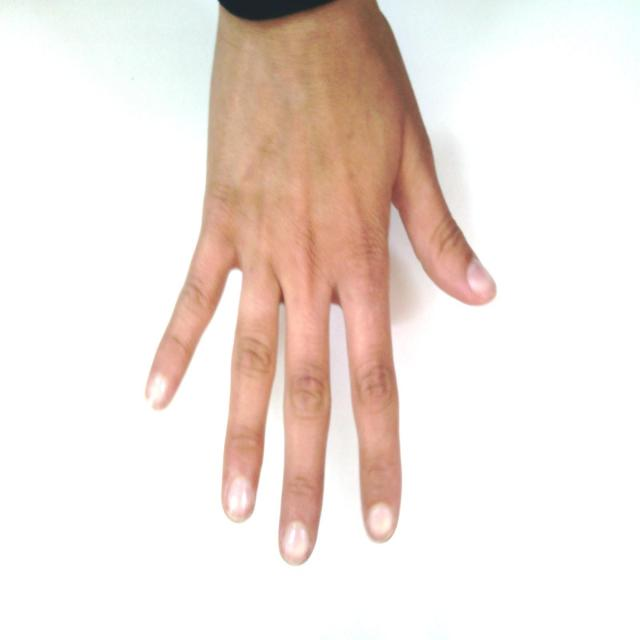others: (122, 1, 556, 562)
